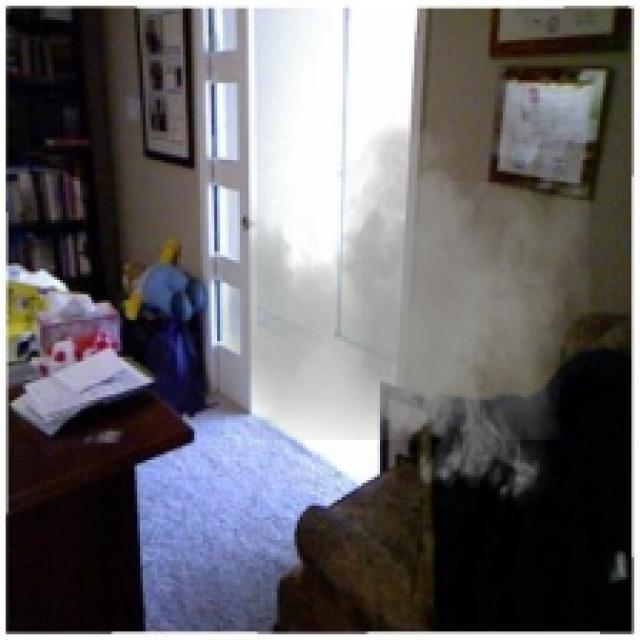smoke: (208, 109, 592, 512)
